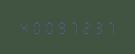four: (17, 20, 28, 34)
nine: (53, 20, 64, 34)
seven: (65, 20, 76, 34), (101, 20, 112, 34)
three: (89, 20, 100, 34)
two: (77, 20, 88, 34)
zero: (29, 20, 40, 34), (41, 20, 52, 34)
